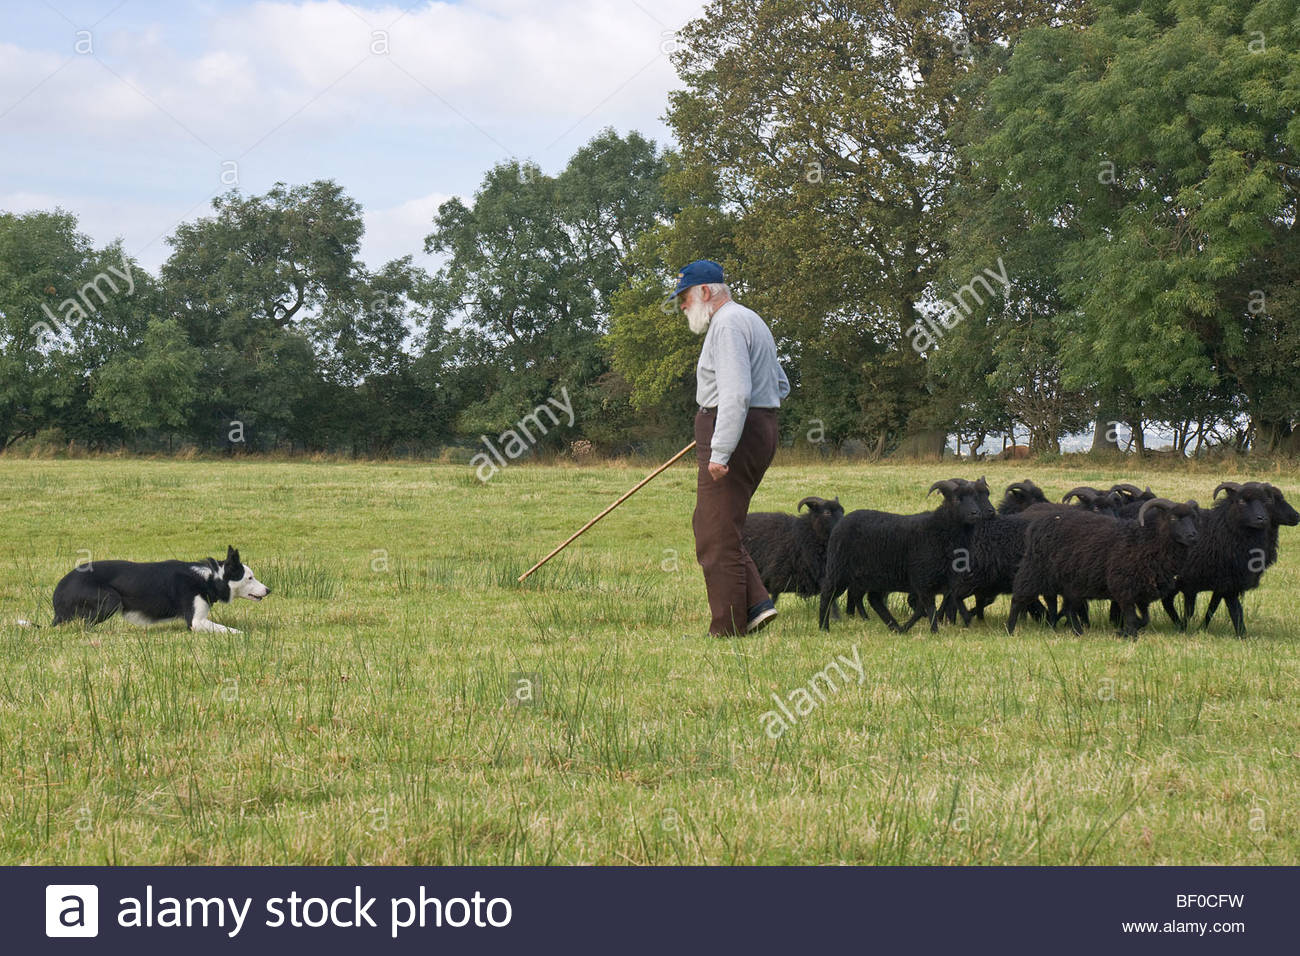sheep: (1031, 464, 1204, 671), (829, 457, 1020, 642), (738, 477, 866, 622), (1209, 477, 1293, 657), (989, 462, 1151, 520)
